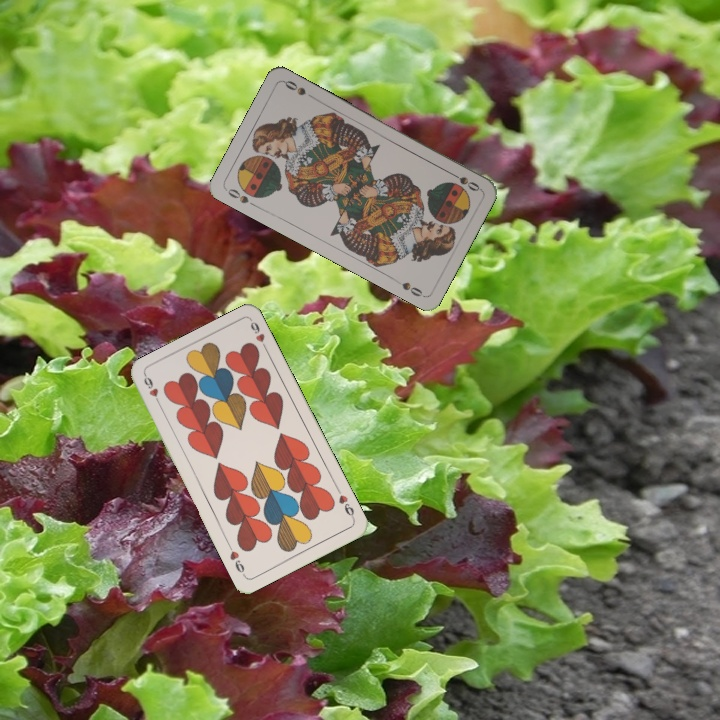H9: (140, 371, 164, 410), (334, 491, 357, 522)
SO: (445, 168, 482, 194), (222, 185, 260, 210)
